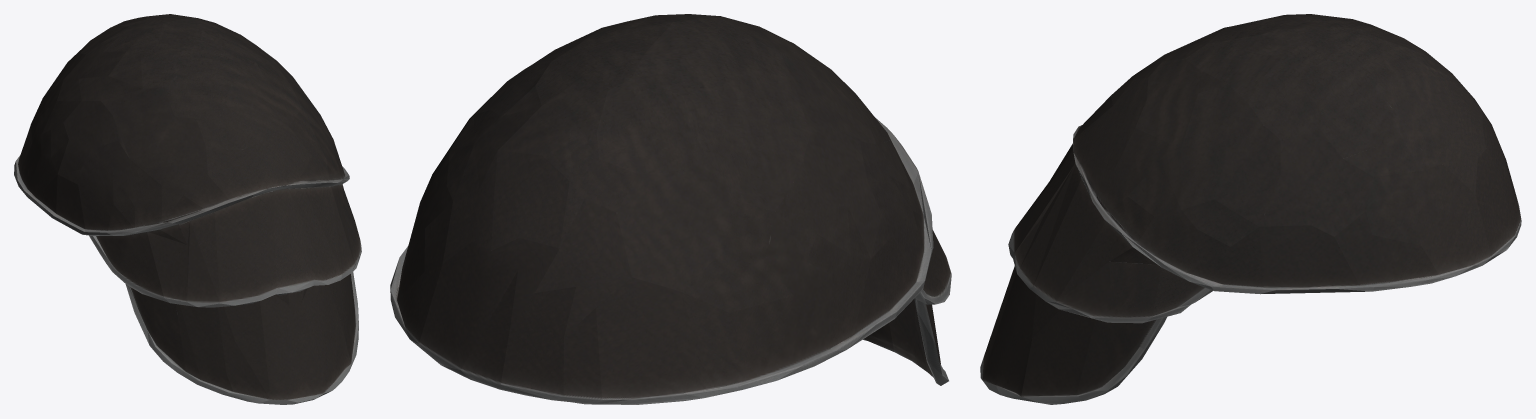
The model's file is pauldron.glb.
3 renders of one model, left to right at view 1: azimuth 30°, elevation 25°; view 2: azimuth 150°, elevation 25°; view 3: azimuth 270°, elevation 25°, orthographic. The views are drawn at different scales.
Parts seen in each view (by area): view 1: Mesh_0; view 2: Mesh_0; view 3: Mesh_0.
Boxes of the visible parts, left/top/right/bottom form: Mesh_0: left=14, top=14, right=361, bottom=404; Mesh_0: left=390, top=14, right=951, bottom=404; Mesh_0: left=980, top=14, right=1521, bottom=404.
Size of the model in its own units: 1.38 by 1.34 by 1.9.
1 material, 1 textured.
